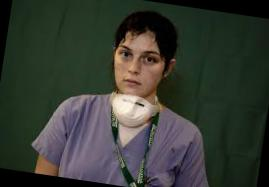mask_weared_incorrect: (109, 44, 166, 116)
